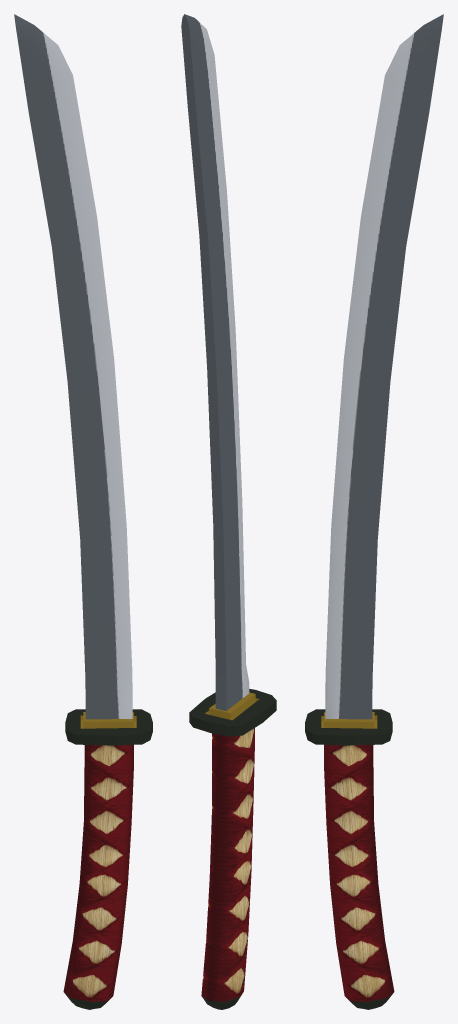
File: models-katana-01.glb
3 renders of one model, left to right at view 1: azimuth 90°, elevation 25°; view 2: azimuth 150°, elevation 25°; view 3: azimuth 270°, elevation 25°, orthographic. The views are drawn at different scales.
Parts seen in each view (by area): view 1: SM_Katana_01; view 2: SM_Katana_01; view 3: SM_Katana_01.
Part boxes in pixels (x1,y1,x2,y2): SM_Katana_01: (14, 14, 152, 1009); SM_Katana_01: (181, 14, 276, 1009); SM_Katana_01: (305, 14, 443, 1009).
Size of the model in its own units: 0.0709 by 1.2 by 0.1519.
Materials: 1 (1 with a texture image).
